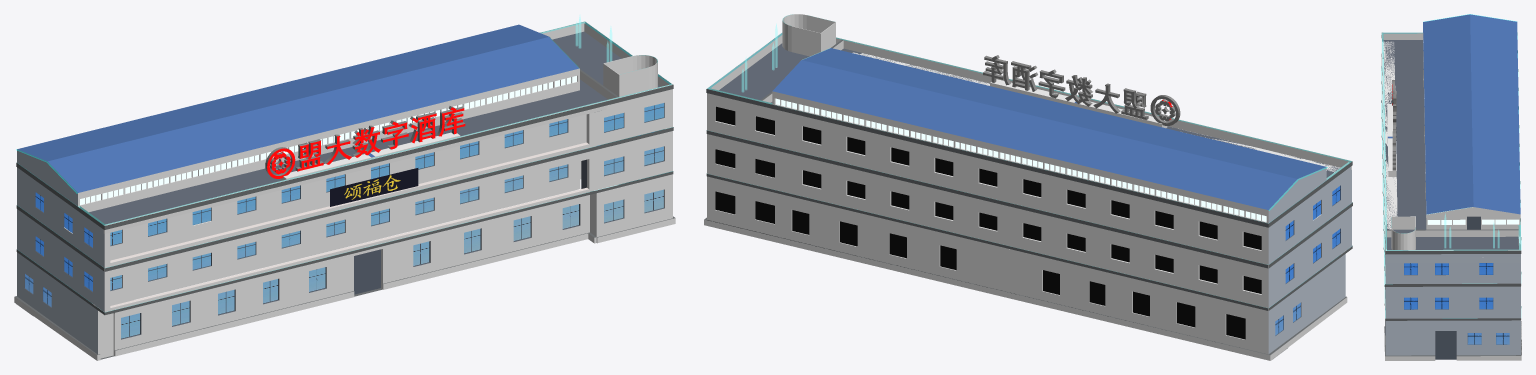
Rendered from jiuku0000.glb.
The picture shows the model from 3 angles, left to right: view 1: azimuth 30°, elevation 25°; view 2: azimuth 150°, elevation 25°; view 3: azimuth 270°, elevation 25°; orthographic projection. The views are drawn at different scales.
Visible parts, largest first — view 1: Monda_jiuku, monda_logo.001, 2号酒库.005, monda_logo; view 2: Monda_jiuku, monda_logo.001, monda_logo; view 3: Monda_jiuku, monda_logo.001.
Part boxes in pixels (x1,y1,x2,y2): Monda_jiuku: (14, 21, 675, 360); monda_logo.001: (295, 106, 465, 171); 2号酒库.005: (330, 168, 418, 206); monda_logo: (265, 147, 295, 178); Monda_jiuku: (704, 14, 1352, 360); monda_logo.001: (983, 55, 1148, 120); monda_logo: (1150, 95, 1180, 125); Monda_jiuku: (1381, 14, 1521, 360); monda_logo.001: (1392, 91, 1396, 170).
Bounding box in the file's own units: 187 × 55 × 50.56.
19 materials, 4 textured.
